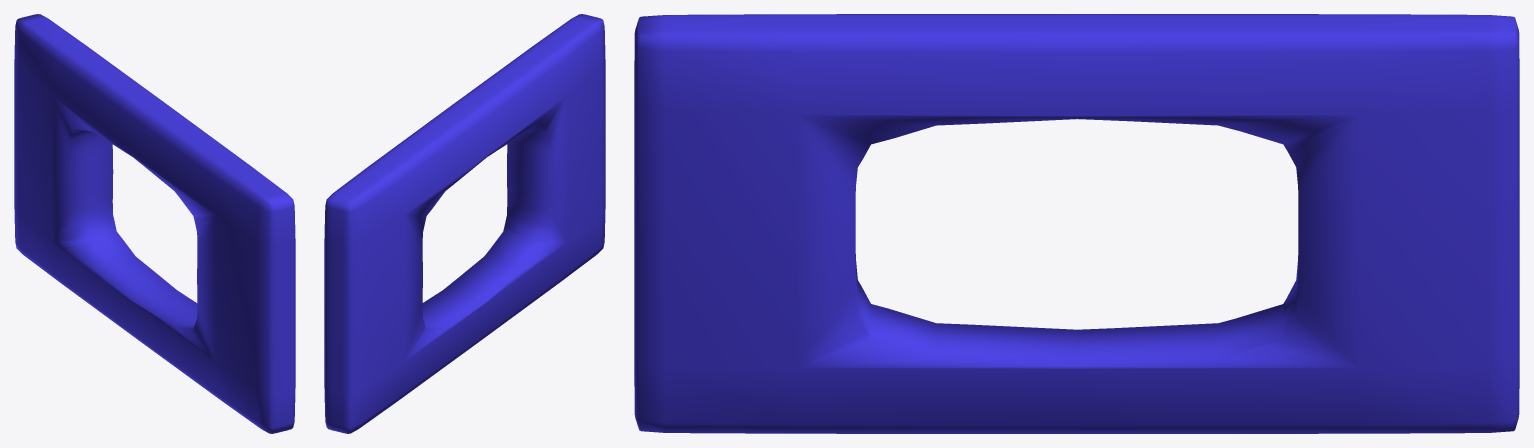
The model's file is Duvar2xPencere(2).fbx.
3 renders of one model, left to right at view 1: azimuth 30°, elevation 25°; view 2: azimuth 150°, elevation 25°; view 3: azimuth 270°, elevation 25°, orthographic. The views are drawn at different scales.
Parts seen in each view (by area): view 1: Duvar2xPencere(2); view 2: Duvar2xPencere(2); view 3: Duvar2xPencere(2).
Boxes of the visible parts, x1,y1,x2,y2 form: Duvar2xPencere(2): (14, 14, 295, 433); Duvar2xPencere(2): (324, 14, 605, 433); Duvar2xPencere(2): (634, 14, 1519, 433).
Size of the model in its own units: 40 by 200 by 400.
